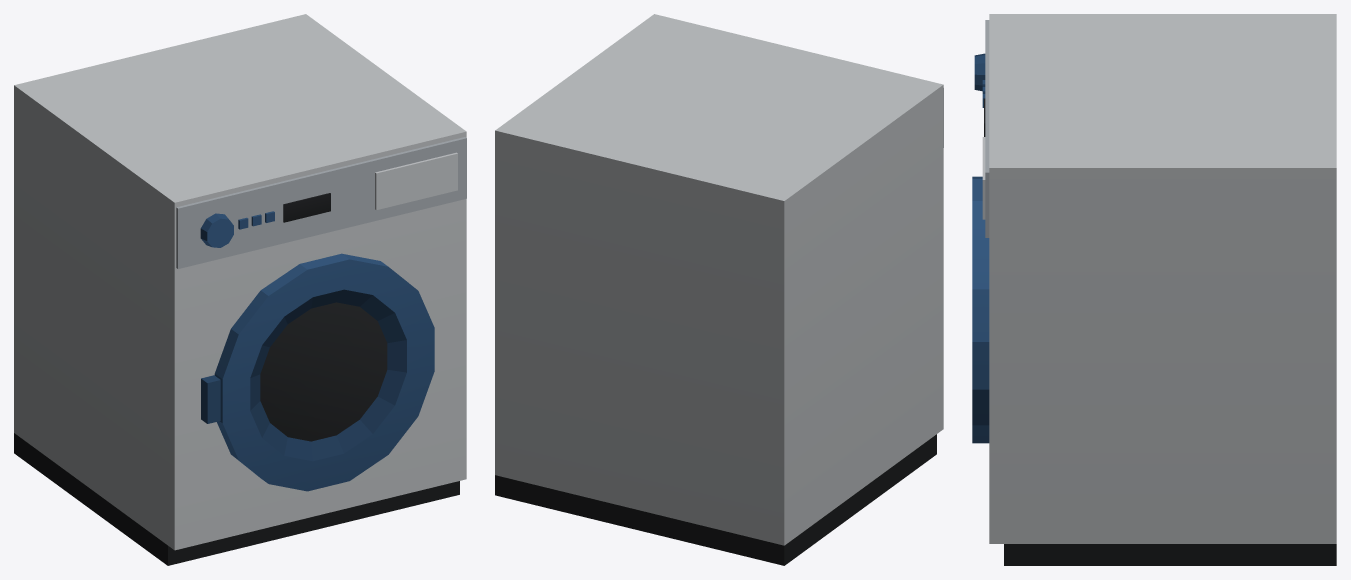
The model's file is appliance.washer.blue.glb.
3 renders of one model, left to right at view 1: azimuth 30°, elevation 25°; view 2: azimuth 150°, elevation 25°; view 3: azimuth 270°, elevation 25°, orthographic. The views are drawn at different scales.
Visible parts, largest first — view 1: appliance_washer_blue; view 2: appliance_washer_blue; view 3: appliance_washer_blue.
Part boxes in pixels (x1,y1,x2,y2): appliance_washer_blue: (14, 14, 466, 565); appliance_washer_blue: (495, 14, 943, 565); appliance_washer_blue: (972, 14, 1336, 565).
Size of what is drawn, in the model's own units: 0.747 by 0.9 by 0.747.
